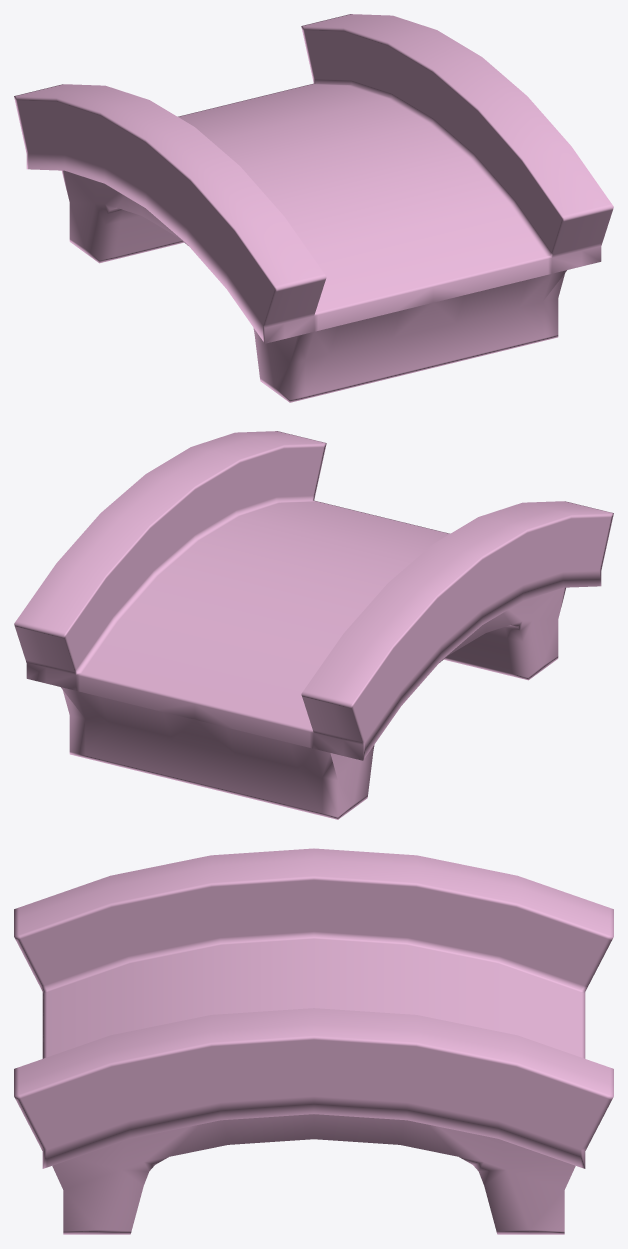
The model's file is bridge3.fbx.
3 renders of one model, top to bottom at view 1: azimuth 30°, elevation 25°; view 2: azimuth 150°, elevation 25°; view 3: azimuth 270°, elevation 25°, orthographic. The views are drawn at different scales.
Parts seen in each view (by area): view 1: stoneb; view 2: stoneb; view 3: stoneb.
Part boxes in pixels (left/top/right/bottom): stoneb: left=14, top=14, right=613, bottom=402; stoneb: left=14, top=431, right=613, bottom=819; stoneb: left=14, top=848, right=613, bottom=1234.
Size of the model in its own units: 22.9 by 12.45 by 31.06.
